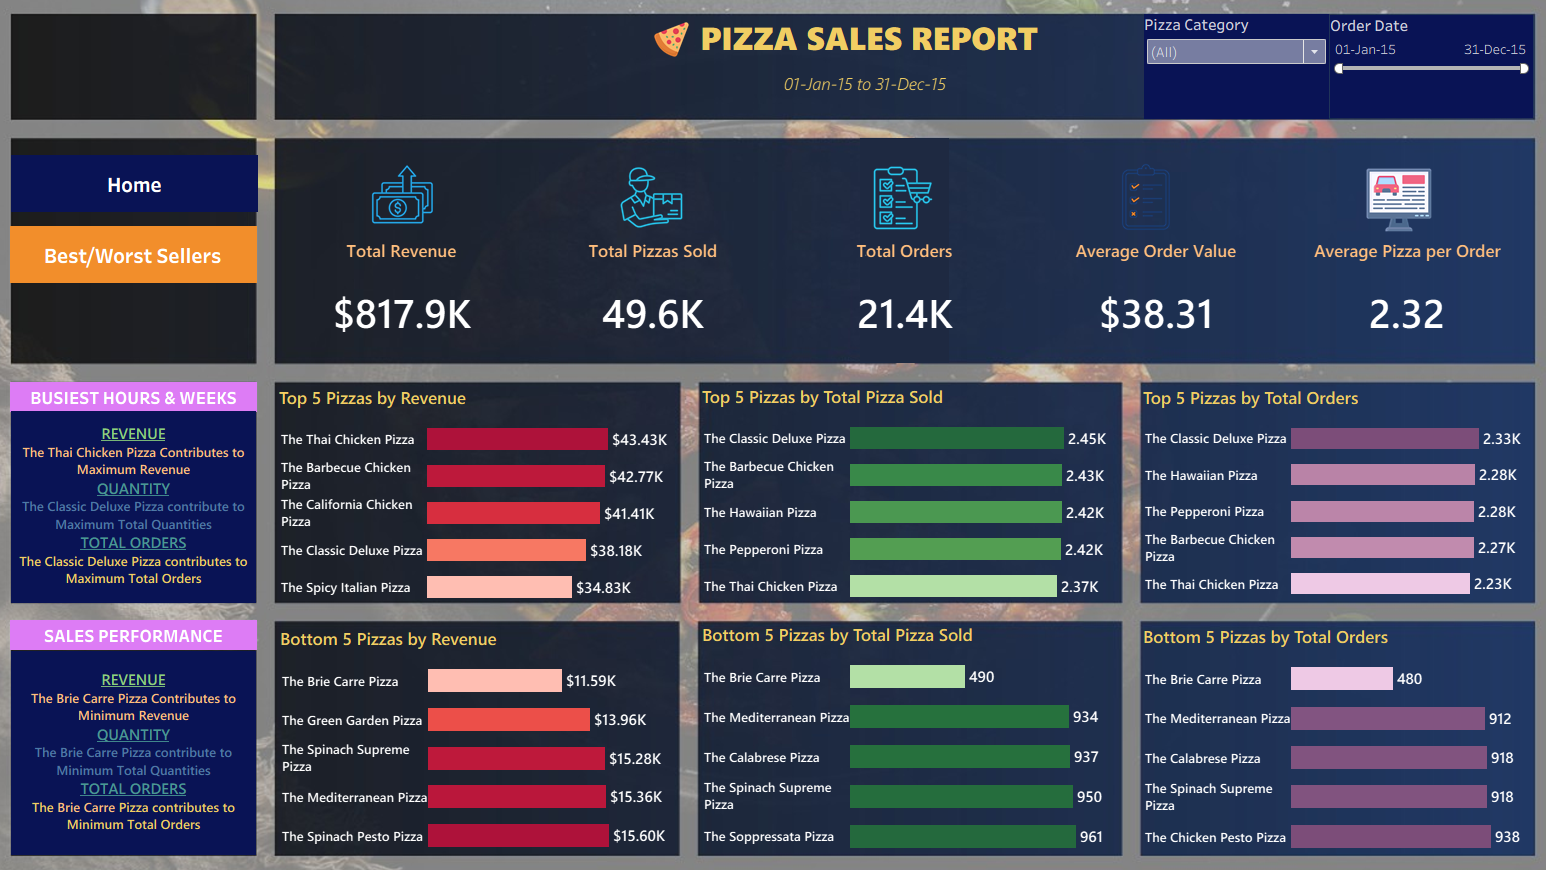

The page's visual inventory and layout, read from the dashboard file:
{"tool":"tableau","page":{"name":"Best/Worst Sellers","canvas":[1600,900],"ordinal":0},"visuals":[{"type":"image","param":"Image/Pizza Background.jpg","box":[8,8,1584,884]},{"type":"text","box":[724,22,351,60]},{"type":"filter","title":"Date Range","param":"[federated.1m8ibaf0xhspzc12ix3xg0qr1awt].[none:pizza_category:nk]","box":[1171,29,185,105]},{"type":"filter","title":"Date Range","param":"[federated.1m8ibaf0xhspzc12ix3xg0qr1awt].[none:order_date:qk]","box":[1357,30,203,103]},{"type":"image","param":"Image/pizza-slice.png","box":[678,36,40,36]},{"type":"worksheet","title":"Date Range","mark":"Automatic","box":[690,78,403,42]},{"type":"text","box":[887,153,89,225]},{"type":"dashboard-object","box":[38,170,247,57]},{"type":"image","param":"Image/profit-growth.png","box":[376,174,106,70]},{"type":"image","param":"Image/test.png","box":[1137,177,72,69]},{"type":"image","param":"Image/delivery-man.png","box":[638,180,81,64]},{"type":"image","param":"Image/order-delivery.png","box":[893,180,73,65]},{"type":"image","param":"Image/monitor.png","box":[1391,181,70,67]},{"type":"worksheet","title":"KPI Banner","mark":"Automatic","box":[303,237,1257,139]},{"type":"dashboard-object","box":[37,241,247,57]},{"type":"worksheet","title":"Top 5 Pizzas by Total Pizza Sold","mark":"Automatic","rows":["pizza_name"],"cols":["Calculation_1257067251942117377"],"box":[725,396,424,223]},{"type":"text","box":[37,397,247,30]},{"type":"worksheet","title":"Top 5 Pizzas by Revenue","mark":"Automatic","rows":["pizza_name"],"cols":["Calculation_1257067251941478400"],"box":[302,397,406,223]},{"type":"worksheet","title":"Top 5 Pizzas by Total Orders","mark":"Automatic","rows":["pizza_name"],"cols":["Calculation_1257067251942297602"],"box":[1166,397,395,220]},{"type":"text","box":[38,426,245,192]},{"type":"worksheet","title":"Bottom 5 Pizzas by Total Pizza Sold","mark":"Automatic","rows":["pizza_name"],"cols":["Calculation_1257067251942117377"],"box":[725,634,423,237]},{"type":"text","box":[37,635,247,30]},{"type":"worksheet","title":"Bottom 5 Pizzas by Total Orders","mark":"Automatic","rows":["pizza_name"],"cols":["Calculation_1257067251942297602"],"box":[1166,636,396,235]},{"type":"worksheet","title":"Bottom 5 Pizzas by Revenue","mark":"Automatic","rows":["pizza_name"],"cols":["Calculation_1257067251941478400"],"box":[303,638,403,232]},{"type":"text","box":[38,666,245,204]}]}

Visuals, with their boxes in screenshot pixels (x1, y1, x2, y2), scaled from the page's 1600x900 canvas onto the 1546x870 screenshot:
image: [8,8,1538,862]
text: [700,21,1039,79]
"Date Range" filter: [1131,28,1310,130]
"Date Range" filter: [1311,29,1507,129]
image: [655,35,694,70]
"Date Range" worksheet: [667,75,1056,116]
text: [857,148,943,365]
dashboard-object: [37,164,275,219]
image: [363,168,466,236]
image: [1099,171,1168,238]
image: [616,174,695,236]
image: [863,174,933,237]
image: [1344,175,1412,240]
"KPI Banner" worksheet: [293,229,1507,363]
dashboard-object: [36,233,274,288]
"Top 5 Pizzas by Total Pizza Sold" worksheet: [701,383,1110,598]
text: [36,384,274,413]
"Top 5 Pizzas by Revenue" worksheet: [292,384,684,599]
"Top 5 Pizzas by Total Orders" worksheet: [1127,384,1508,596]
text: [37,412,273,597]
"Bottom 5 Pizzas by Total Pizza Sold" worksheet: [701,613,1109,842]
text: [36,614,274,643]
"Bottom 5 Pizzas by Total Orders" worksheet: [1127,615,1509,842]
"Bottom 5 Pizzas by Revenue" worksheet: [293,617,682,841]
text: [37,644,273,841]
